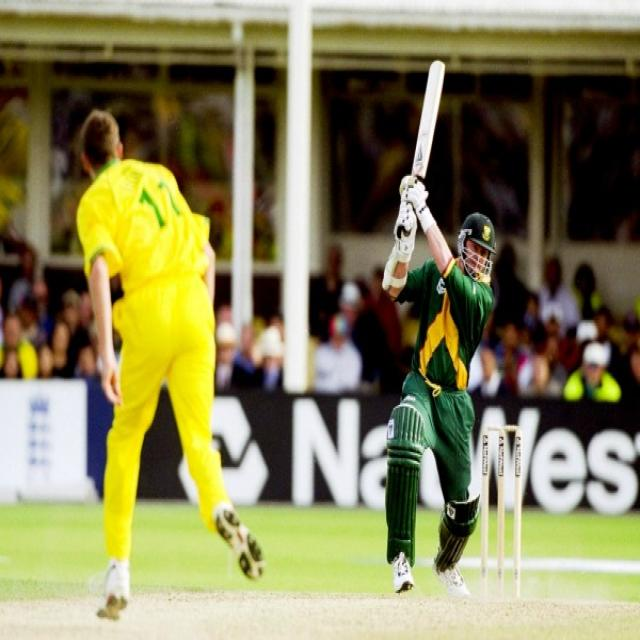stump: (477, 424, 523, 605)
